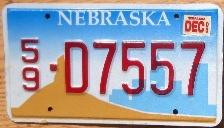5: (149, 39, 177, 98), (120, 39, 147, 96)
7: (179, 39, 206, 100), (91, 39, 118, 97)
D: (62, 38, 92, 96)
